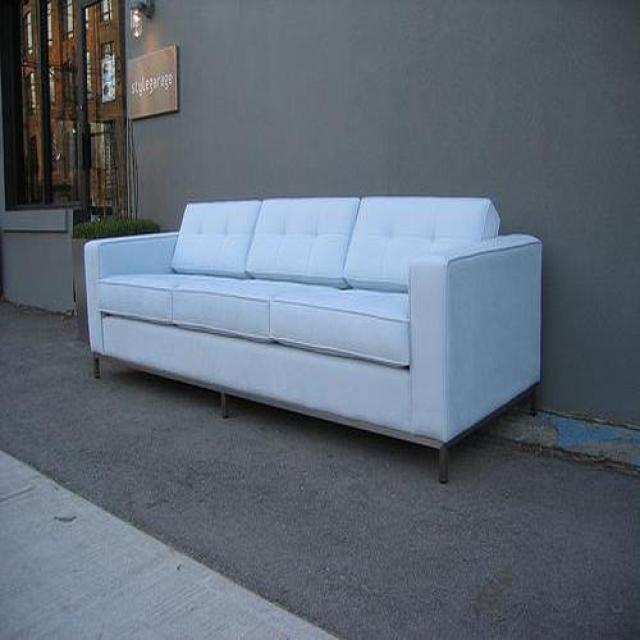sofa: (81, 197, 541, 457)
